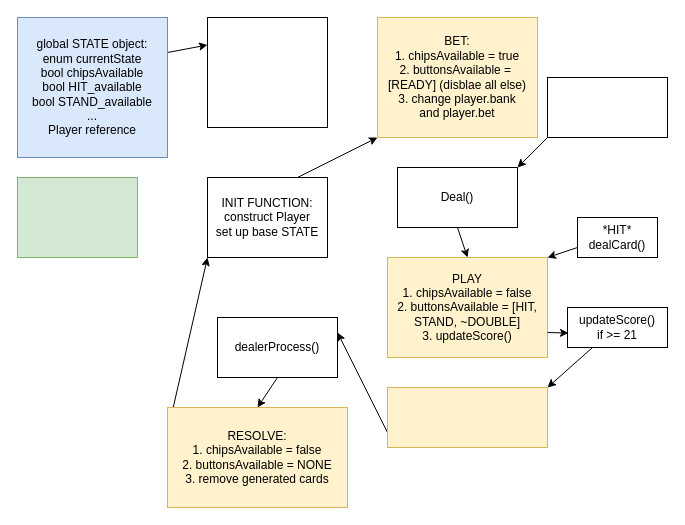
Image size: 685x525. Some labels were removed from this diagram. Here are the shapes that lost their labels. From the top down, the centre of each, then its label:
At point (267, 72): "enum StateType: 1. BET 2. PLAY 3. ~DEALER 4. RESOLVE".
At point (607, 107): "*READY CLICKED* Play(player)".
At point (77, 217): "Player Object: 1. currentScore 2. aceAvailable 3. moneyInBank 4. bet".
At point (467, 417): "DEALER 1. chipsAvailable = false 2. buttonsAvailable = NONE dealerProcess()".
